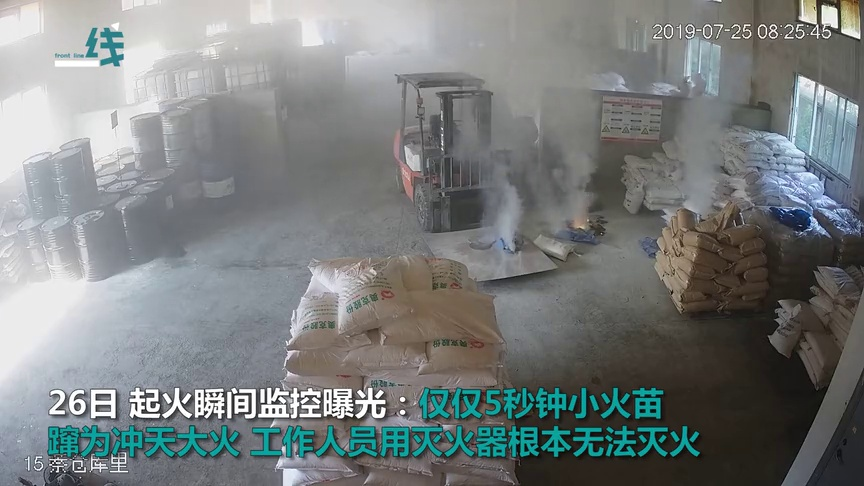smoke: (539, 100, 590, 217), (675, 98, 720, 208), (476, 159, 526, 237)
